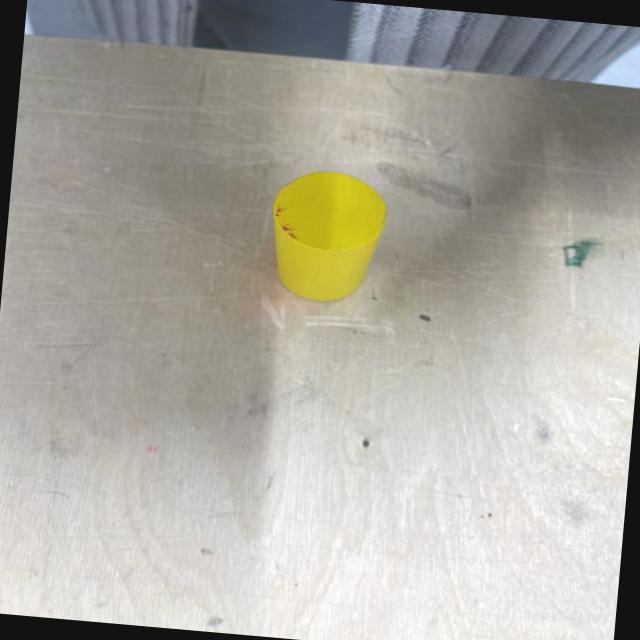yellow_cylinder: (264, 166, 392, 306)
